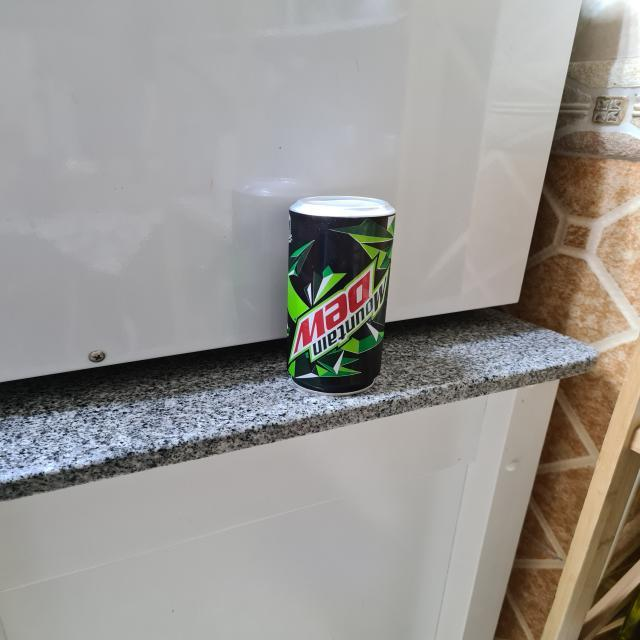can: (278, 194, 403, 394)
